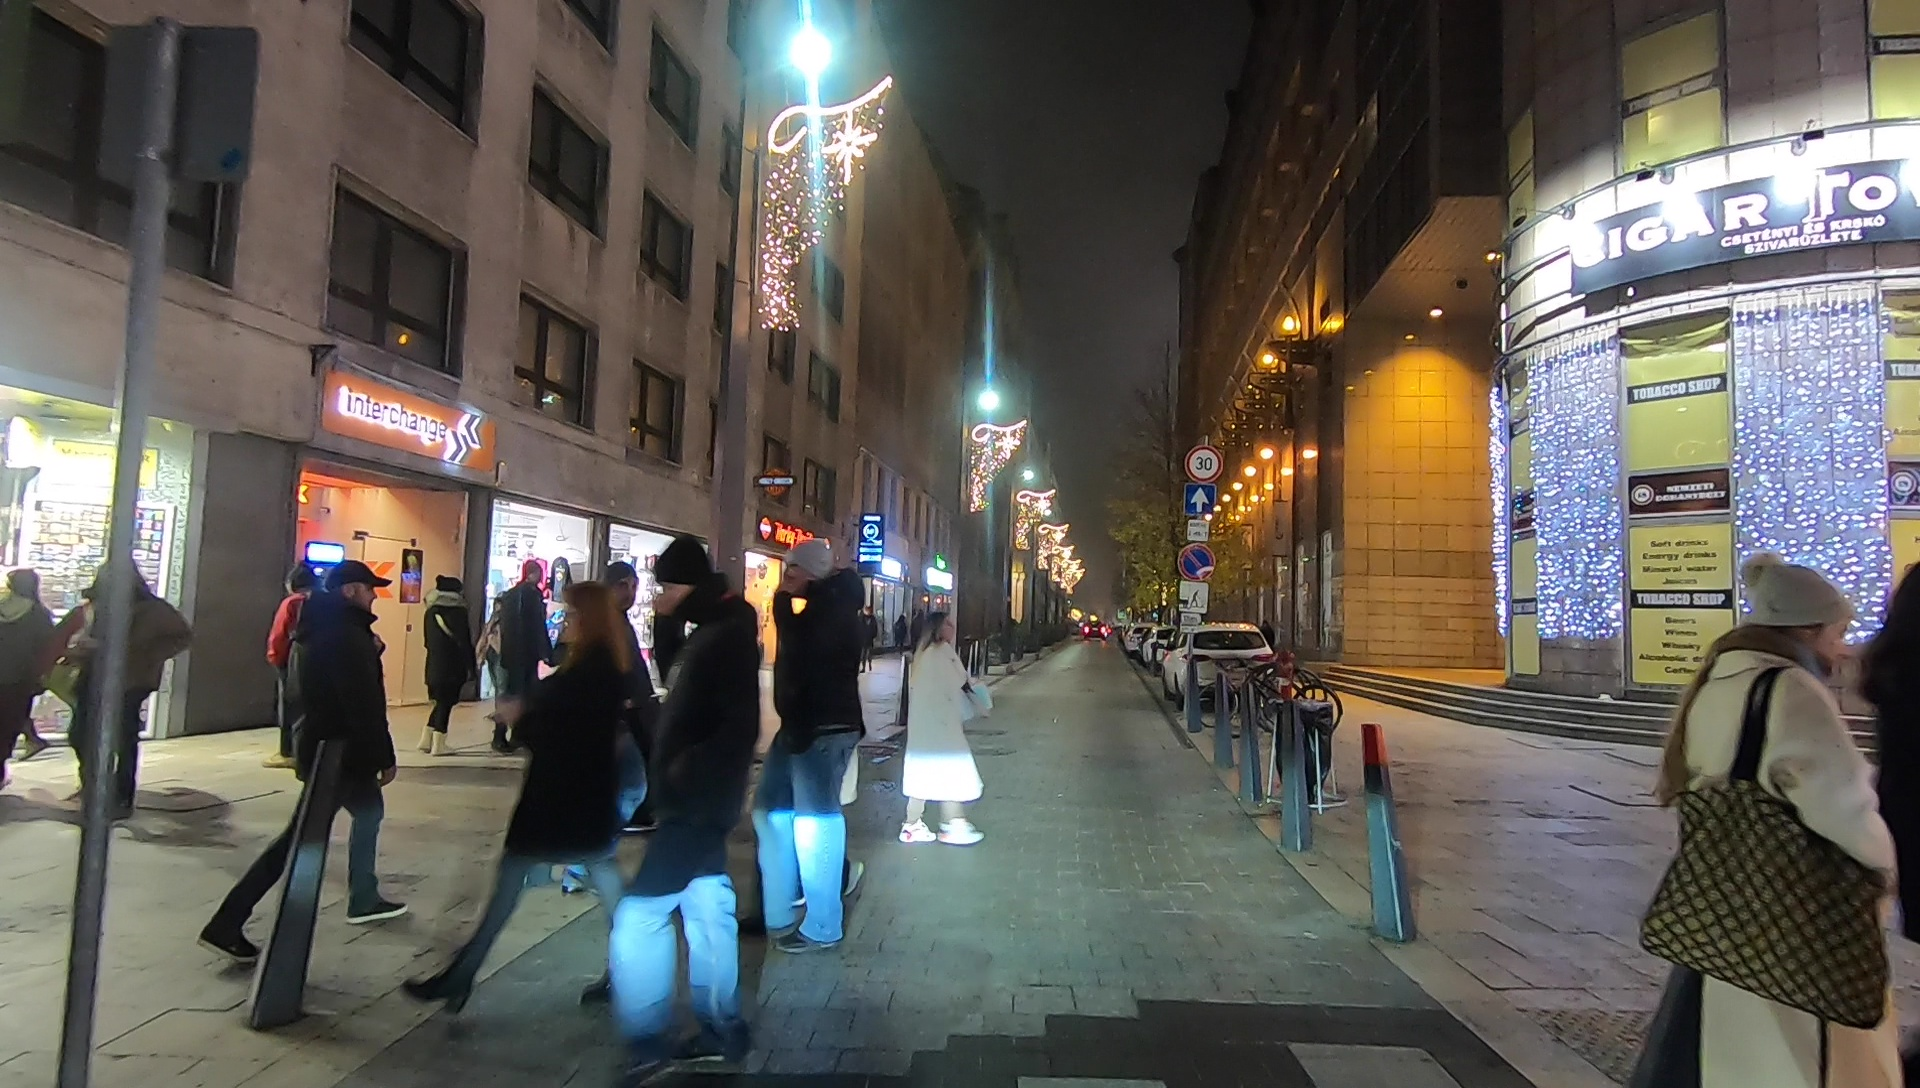person: (1643, 539, 1901, 1088), (404, 587, 625, 1010), (212, 567, 404, 958), (612, 534, 742, 1088), (758, 539, 864, 956), (904, 610, 986, 849), (488, 556, 543, 747), (2, 567, 47, 787), (414, 571, 467, 752)
